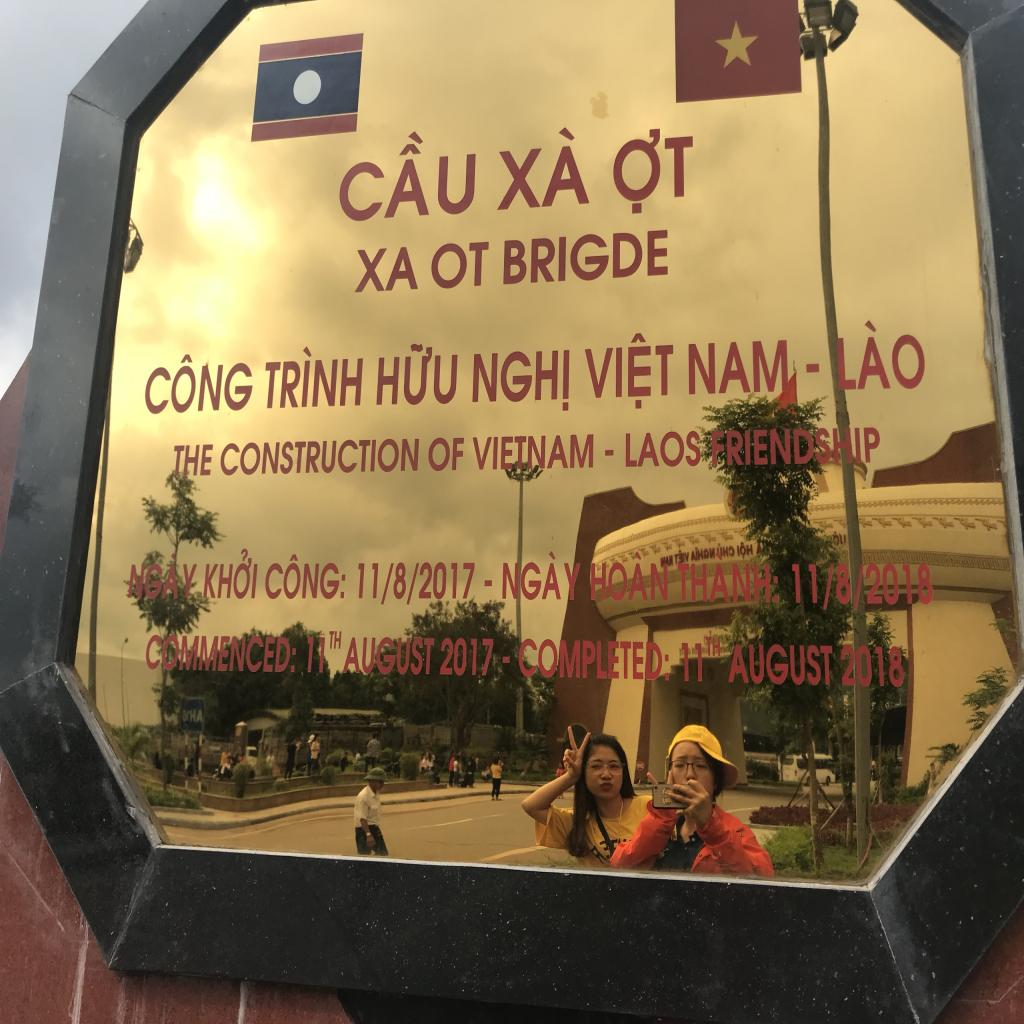text: (338, 126, 480, 224), (705, 418, 882, 474), (501, 228, 670, 286), (218, 434, 422, 480), (517, 630, 674, 688), (495, 127, 593, 214), (580, 327, 676, 415), (142, 629, 300, 681), (832, 315, 927, 396), (682, 333, 794, 400), (612, 126, 696, 215), (144, 350, 254, 417), (674, 547, 782, 612), (261, 346, 366, 411), (470, 346, 572, 412), (724, 636, 836, 690), (374, 341, 460, 407), (338, 628, 438, 683), (494, 547, 582, 608), (470, 432, 597, 474), (586, 551, 670, 608), (264, 553, 348, 606), (121, 551, 200, 604), (620, 425, 702, 472), (352, 241, 421, 296), (426, 237, 492, 293), (201, 549, 263, 608), (864, 555, 933, 608), (416, 559, 480, 606), (438, 633, 498, 683), (785, 553, 822, 614), (173, 434, 217, 480), (424, 429, 467, 476), (353, 555, 384, 606), (375, 557, 398, 610), (303, 630, 329, 675), (680, 637, 704, 685), (390, 559, 410, 610), (834, 559, 853, 610), (404, 559, 421, 610), (821, 559, 836, 616), (700, 632, 724, 664), (852, 563, 866, 614), (327, 626, 343, 650)
